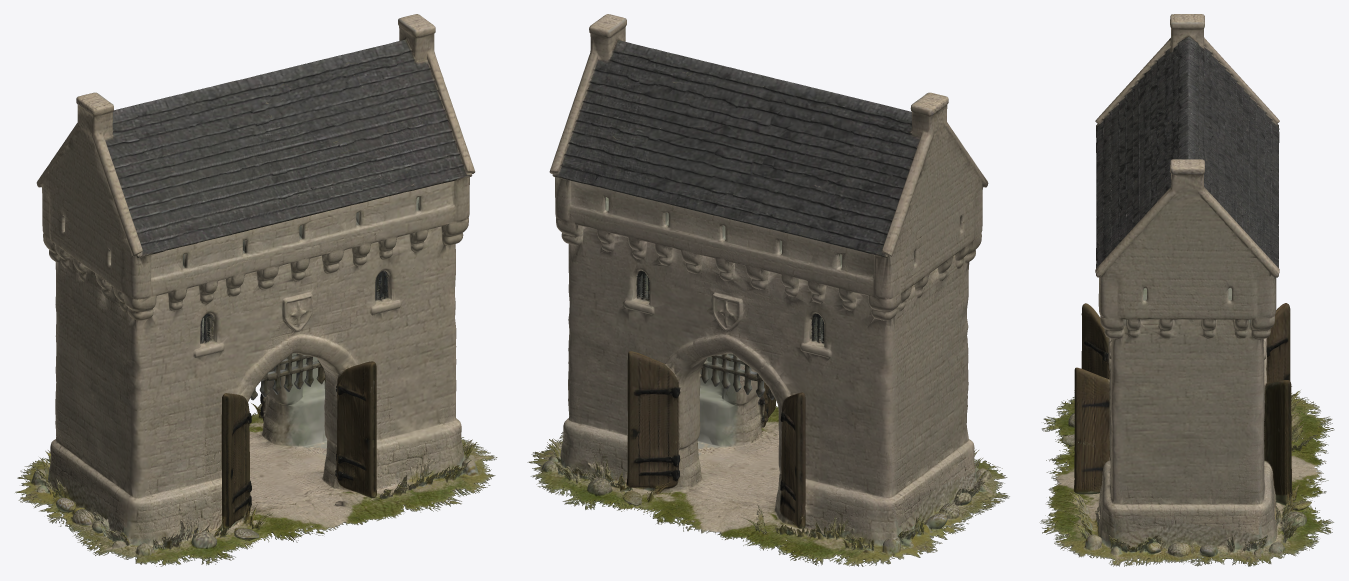
File: gate_stone.glb
The picture shows the model from 3 angles, left to right: view 1: azimuth 30°, elevation 25°; view 2: azimuth 150°, elevation 25°; view 3: azimuth 270°, elevation 25°; orthographic projection. The views are drawn at different scales.
Parts seen in each view (by area): view 1: gate_stone; view 2: gate_stone; view 3: gate_stone.
Boxes of the visible parts, <box> form: gate_stone: <box>15,14,497,566</box>; gate_stone: <box>527,14,1009,566</box>; gate_stone: <box>1039,14,1334,566</box>.
Bounding box in the file's own units: 1.89 × 1.87 × 1.29.
1 material, 1 textured.
